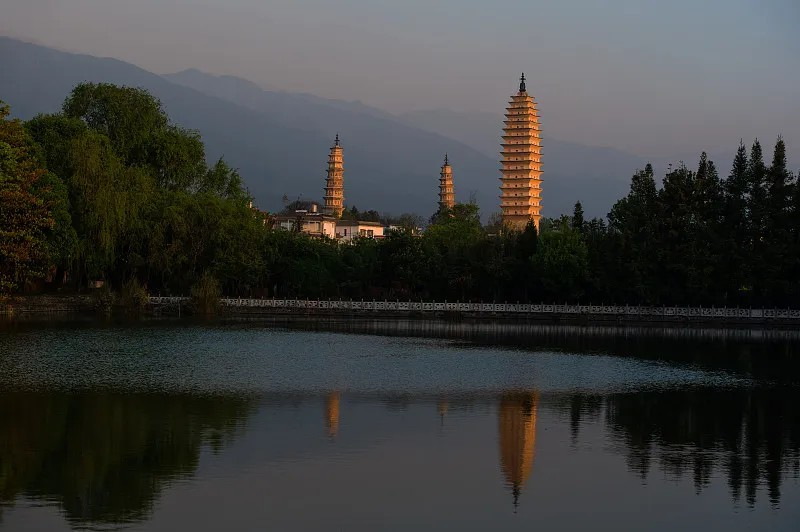ThreePagoda: (498, 71, 544, 233)
